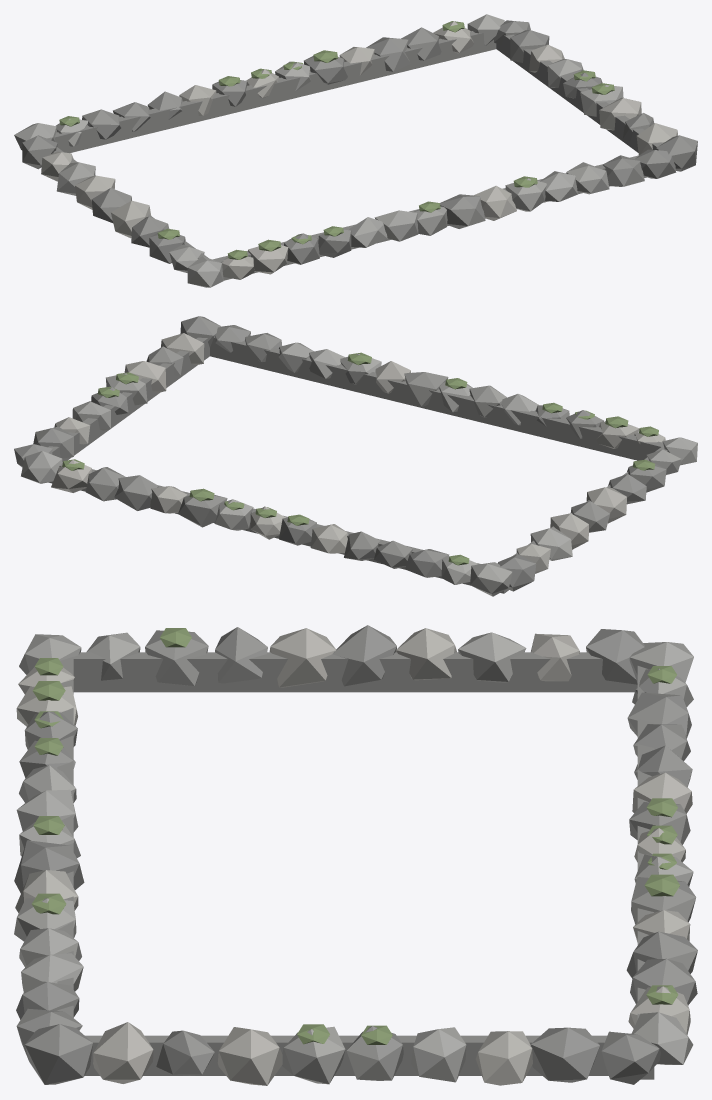
Rendered from PondRim.glb.
3 views of the same model, one above another, from view 1: azimuth 30°, elevation 25°; view 2: azimuth 150°, elevation 25°; view 3: azimuth 270°, elevation 25° (orthographic). The views are drawn at different scales.
Parts seen in each view (by area): view 1: PondRim; view 2: PondRim; view 3: PondRim.
Boxes of the visible parts, bbox=[...] form: PondRim: bbox=[14, 14, 697, 287]; PondRim: bbox=[14, 316, 697, 596]; PondRim: bbox=[14, 625, 697, 1085].
Size of the model in its own units: 25 by 1.81 by 16.73.
